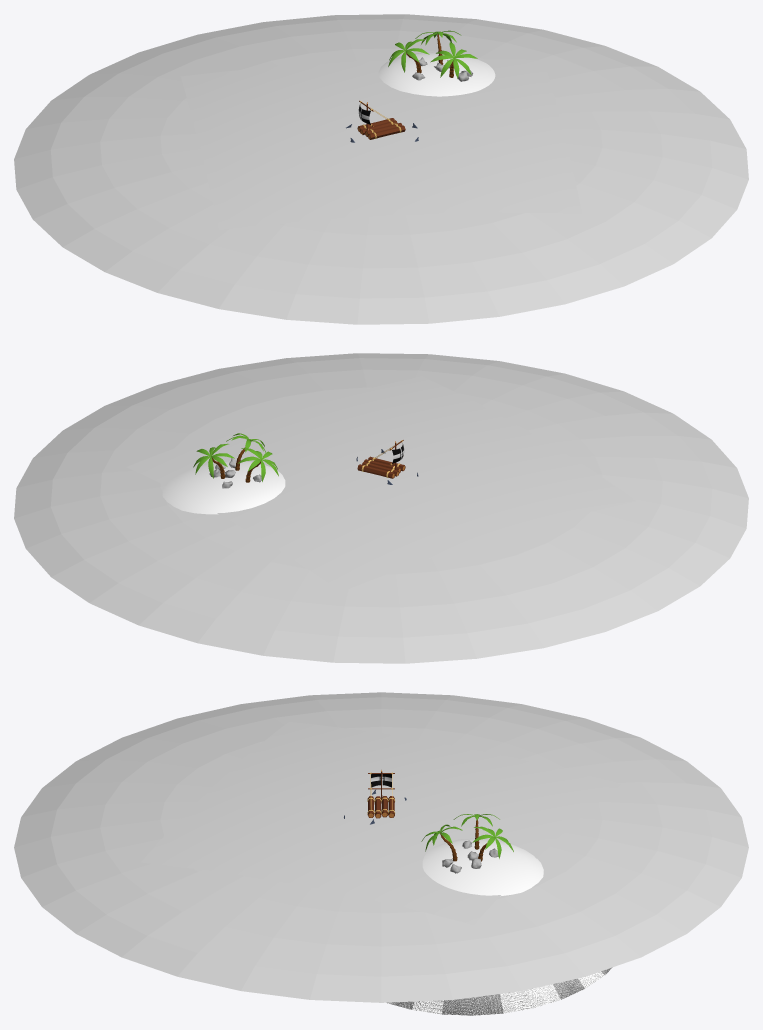
File: pirate-raft-world-v2.glb
3 renders of one model, top to bottom at view 1: azimuth 30°, elevation 25°; view 2: azimuth 150°, elevation 25°; view 3: azimuth 270°, elevation 25°, orthographic.
Parts seen in each view (by area): view 1: Ocean 2, Ocean, Island, Tree Canopy.001; view 2: Ocean 2, Ocean, Island; view 3: Ocean 2, Ocean, Island.
Boxes of the visible parts, x1,y1,x2,y2 form: Ocean 2: (14,14,748,324); Ocean: (180,59,582,229); Island: (378,52,495,96); Tree Canopy.001: (430,42,477,78); Ocean 2: (14,353,748,663); Ocean: (126,376,636,591); Island: (162,461,285,514); Ocean 2: (14,692,748,1002); Ocean: (141,721,621,924); Island: (386,838,612,1015).
Bounding box in the file's own units: 222 × 40.36 × 222.
Materials: 11 (1 with a texture image).
